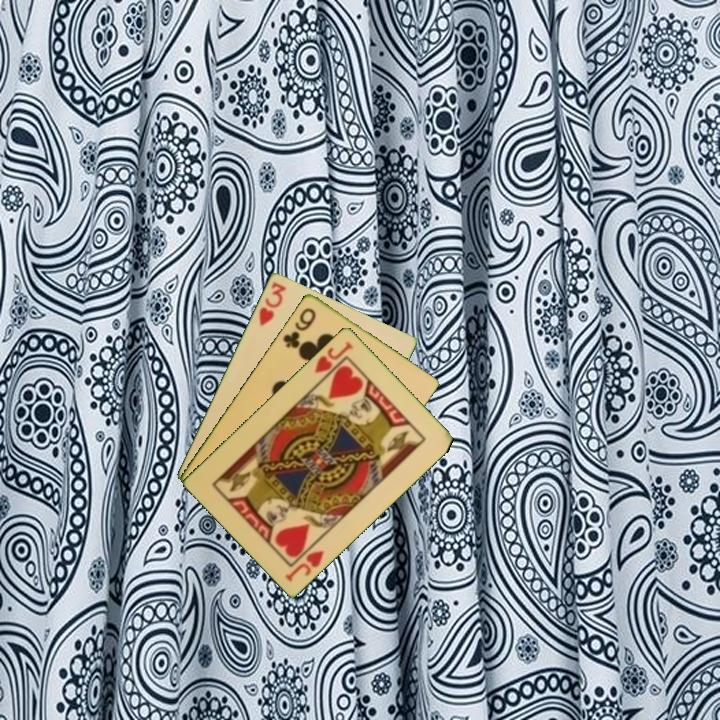3h: (255, 278, 289, 329)
9c: (279, 304, 319, 351)
Jh: (311, 337, 356, 376), (281, 546, 327, 584)
